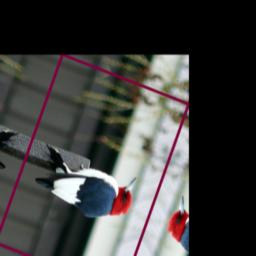Woodpecker: (26, 141, 144, 233)
